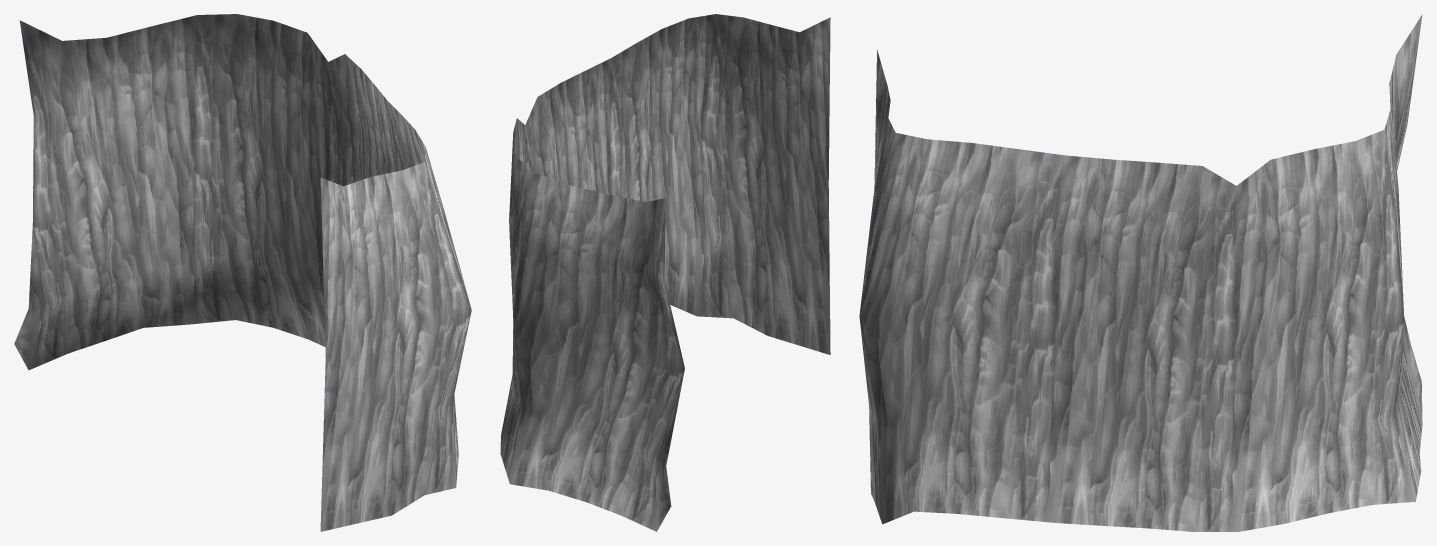
File: SWORDLIGHT20_PS-AREA03_177.fbx
3 renders of one model, left to right at view 1: azimuth 30°, elevation 25°; view 2: azimuth 150°, elevation 25°; view 3: azimuth 270°, elevation 25°, orthographic. The views are drawn at different scales.
Parts seen in each view (by area): view 1: SWORDLIGHT20_PS-AREA03_177; view 2: SWORDLIGHT20_PS-AREA03_177; view 3: SWORDLIGHT20_PS-AREA03_177.
Part boxes in pixels (bbox=[...]): SWORDLIGHT20_PS-AREA03_177: bbox=[14, 14, 471, 531]; SWORDLIGHT20_PS-AREA03_177: bbox=[500, 14, 830, 531]; SWORDLIGHT20_PS-AREA03_177: bbox=[859, 14, 1422, 531].
Size of the model in its own units: 72775 by 99967 by 125026.
Materials: 2 (2 with a texture image).
